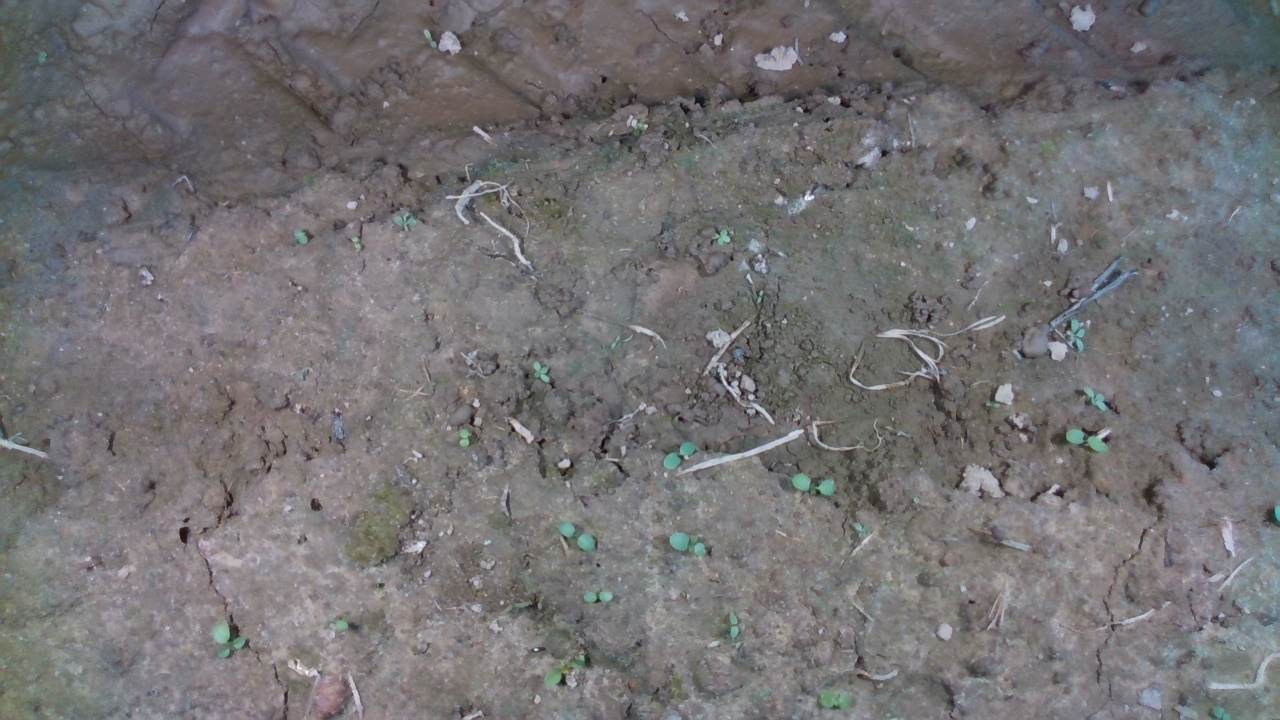weed: (791, 466, 847, 501), (1065, 425, 1118, 460), (211, 617, 252, 662), (665, 522, 713, 556), (553, 517, 597, 552), (659, 437, 690, 471), (1064, 316, 1092, 353), (1080, 381, 1111, 413), (723, 607, 749, 642), (582, 582, 617, 599), (528, 358, 551, 383), (294, 227, 318, 248), (328, 615, 346, 634)
